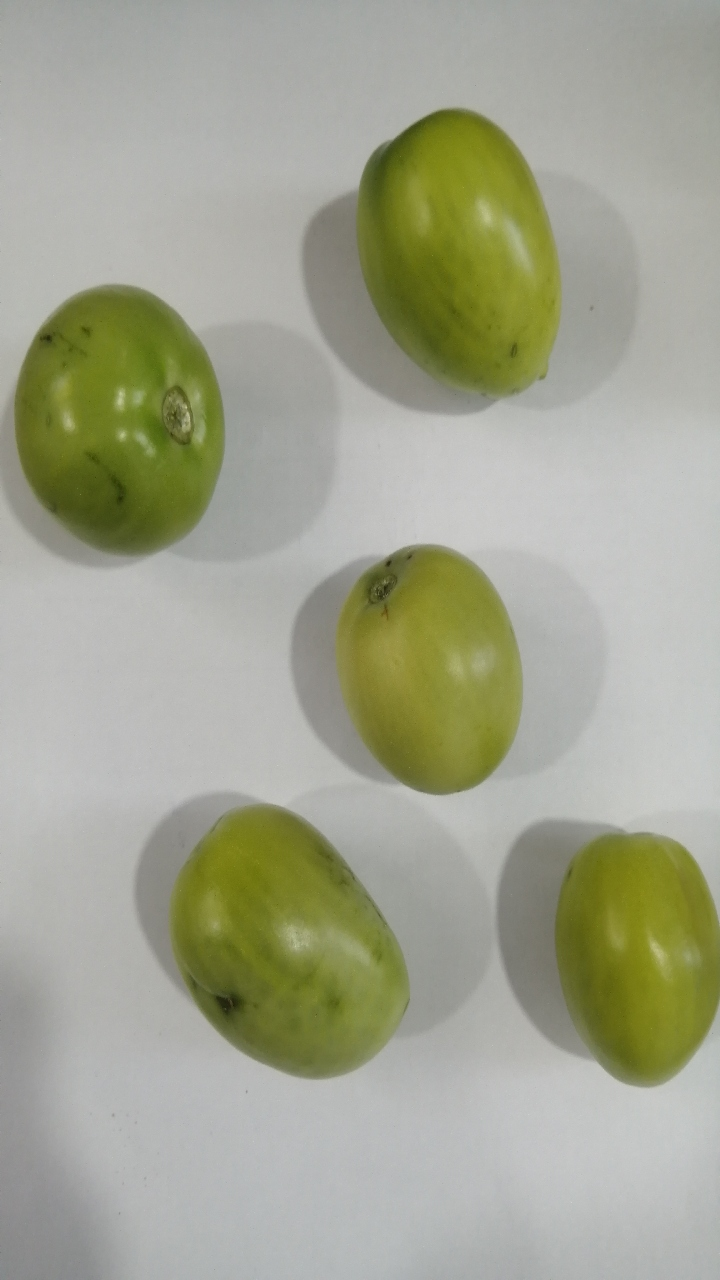tomateVerde: (144, 769, 424, 1095), (331, 82, 601, 419), (1, 260, 248, 574), (311, 512, 544, 822), (538, 806, 720, 1120)
